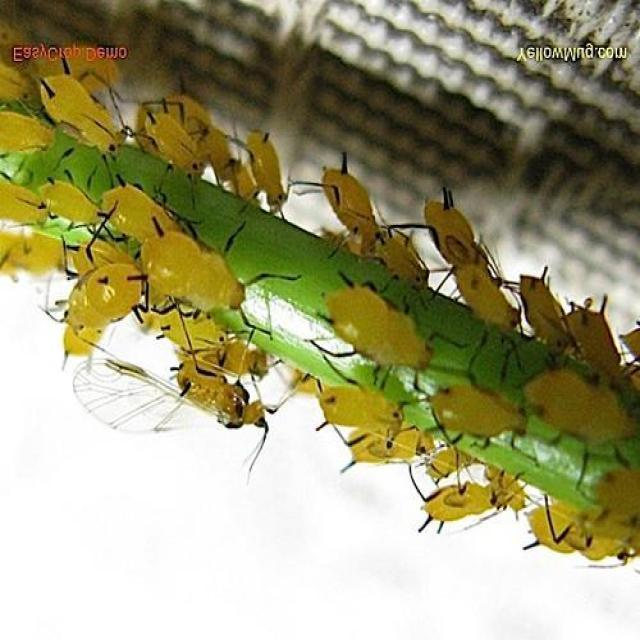aphid: (120, 222, 296, 325), (314, 274, 458, 372), (44, 243, 168, 356), (23, 62, 137, 177), (422, 365, 548, 460), (303, 367, 429, 454), (134, 96, 217, 193), (244, 122, 300, 227)
